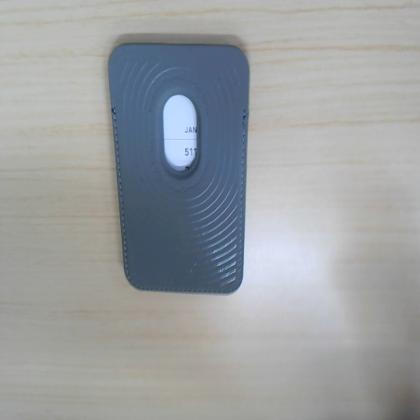pics: (109, 44, 249, 292)
